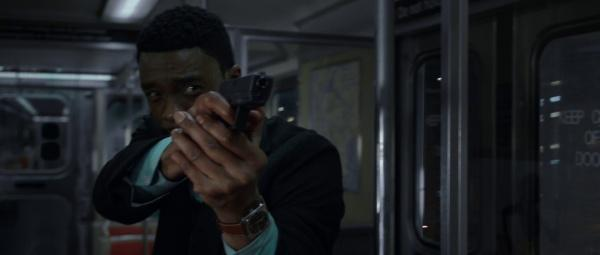Gun: (217, 73, 275, 124)
